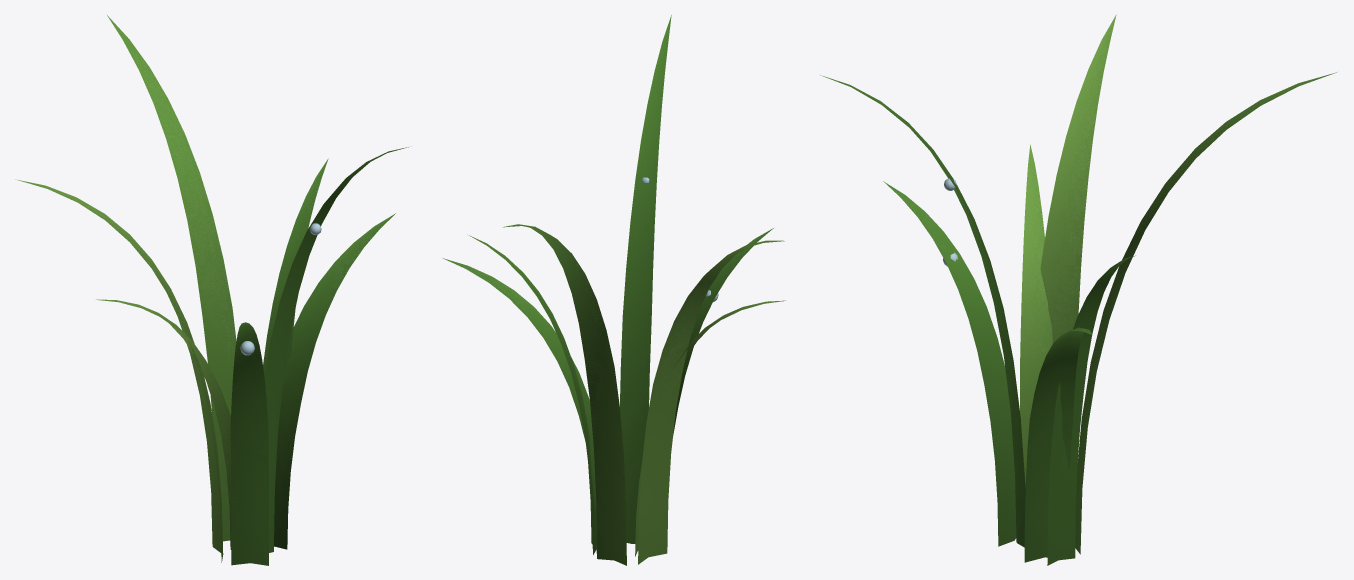
The model's file is grass.obj.
3 renders of one model, left to right at view 1: azimuth 30°, elevation 25°; view 2: azimuth 150°, elevation 25°; view 3: azimuth 270°, elevation 25°, orthographic. The views are drawn at different scales.
Parts seen in each view (by area): view 1: grass; view 2: grass; view 3: grass.
Part boxes in pixels (x1=…): grass: x1=15, y1=15, x2=408, y2=565; grass: x1=443, y1=15, x2=785, y2=565; grass: x1=820, y1=14, x2=1336, y2=565.
Bounding box in the file's own units: 1559 × 1870 × 1757.
